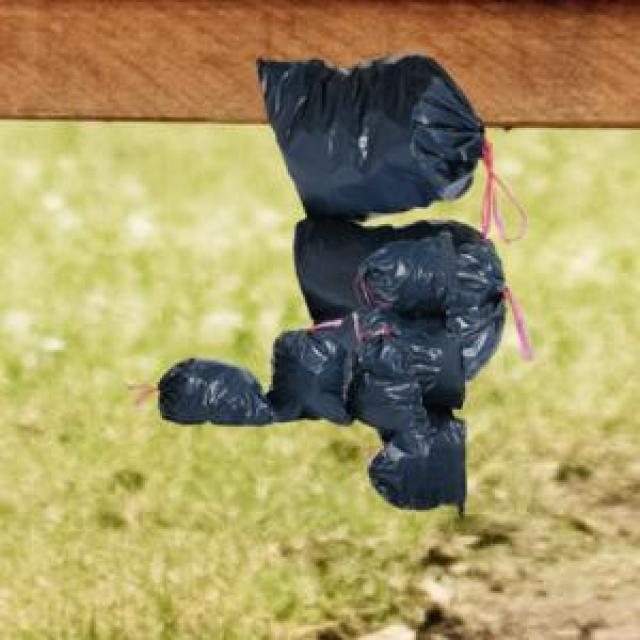Vinyl: (160, 56, 500, 509)
